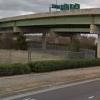Bridge: (4, 7, 99, 45)
